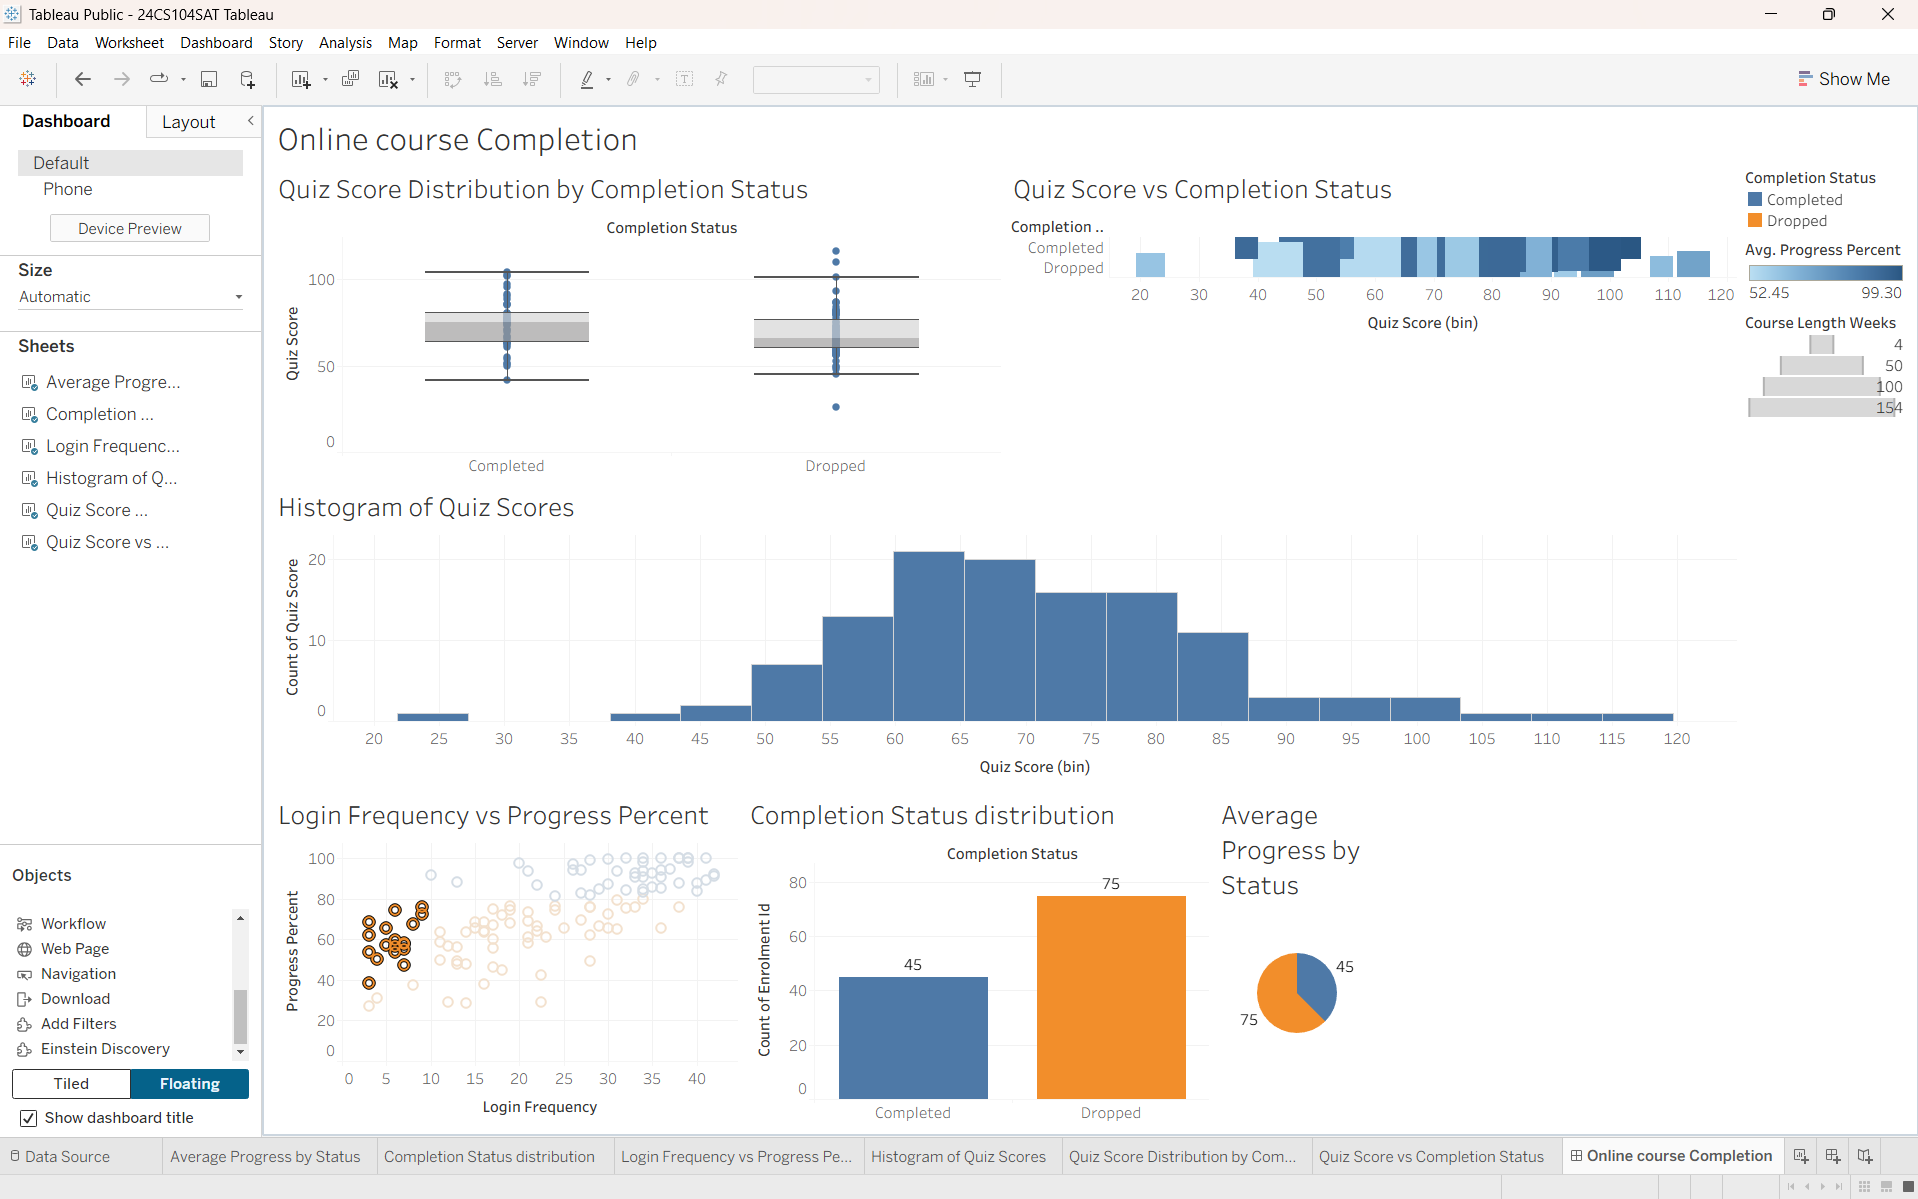

The page's visual inventory and layout, read from the dashboard file:
{"tool":"tableau","page":{"name":"Online course Completion ","canvas":[1000,1000],"units":"permille","ordinal":0},"visuals":[{"type":"title","box":[4.8,7.8,990.3,48.5]},{"type":"worksheet","title":"Quiz Score Distribution by Completion Status","mark":"Circle","rows":["quiz_score"],"cols":["completion_status"],"box":[4.8,56.3,443.9,308.9]},{"type":"worksheet","title":"Quiz Score vs Completion Status","mark":"Square","rows":["completion_status"],"cols":["Quiz Score (bin)"],"box":[448.7,56.3,443.9,308.9]},{"type":"legend","title":"Average Progress by Status","param":"[federated.0yi2jn007c1rgh133fgfw155lo9q].[none:completion_status:nk]","box":[892.6,56.3,102.6,69.8]},{"type":"legend","title":"Quiz Score vs Completion Status","param":"[federated.0yi2jn007c1rgh133fgfw155lo9q].[avg:progress_percent:qk]","box":[892.6,126.1,102.6,70.8]},{"type":"legend","title":"Quiz Score vs Completion Status","param":"[federated.0yi2jn007c1rgh133fgfw155lo9q].[sum:course_length_weeks:qk]","box":[892.6,196.9,102.6,110.6]},{"type":"worksheet","title":"Histogram of Quiz Scores","mark":"Automatic","rows":["quiz_score"],"cols":["Quiz Score (bin)"],"box":[4.8,365.2,887.7,297.8]},{"type":"worksheet","title":"Login Frequency vs Progress Percent","mark":"Automatic","rows":["progress_percent"],"cols":["login_frequency"],"box":[4.8,663,284.7,329.2]},{"type":"worksheet","title":"Completion Status distribution","mark":"Automatic","rows":["enrolment_id"],"cols":["completion_status"],"box":[289.5,663,284.7,329.2]},{"type":"worksheet","title":"Average Progress by Status","mark":"Pie","box":[574.2,663,318.4,329.2]}]}

Visuals, with their boxes on the dashboard's canvas, which has no fixed pixel size, in thousandths of its width and height (x1, y1, x2, y2). These are canvas units, not pixel positions in the 1918x1199 screenshot, which may show the page scaled, cropped or inside an application window:
title: Rect(5, 8, 995, 56)
"Quiz Score Distribution by Completion Status" worksheet (Circle marks): Rect(5, 56, 449, 365)
"Quiz Score vs Completion Status" worksheet (Square marks): Rect(449, 56, 893, 365)
"Average Progress by Status" legend: Rect(893, 56, 995, 126)
"Quiz Score vs Completion Status" legend: Rect(893, 126, 995, 197)
"Quiz Score vs Completion Status" legend: Rect(893, 197, 995, 308)
"Histogram of Quiz Scores" worksheet: Rect(5, 365, 892, 663)
"Login Frequency vs Progress Percent" worksheet: Rect(5, 663, 290, 992)
"Completion Status distribution" worksheet: Rect(290, 663, 574, 992)
"Average Progress by Status" worksheet (Pie marks): Rect(574, 663, 893, 992)
